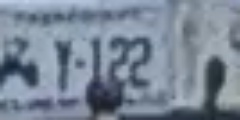1: (82, 27, 103, 91)
2: (126, 29, 155, 89)
S: (107, 30, 132, 86)
Y: (47, 27, 76, 91)
